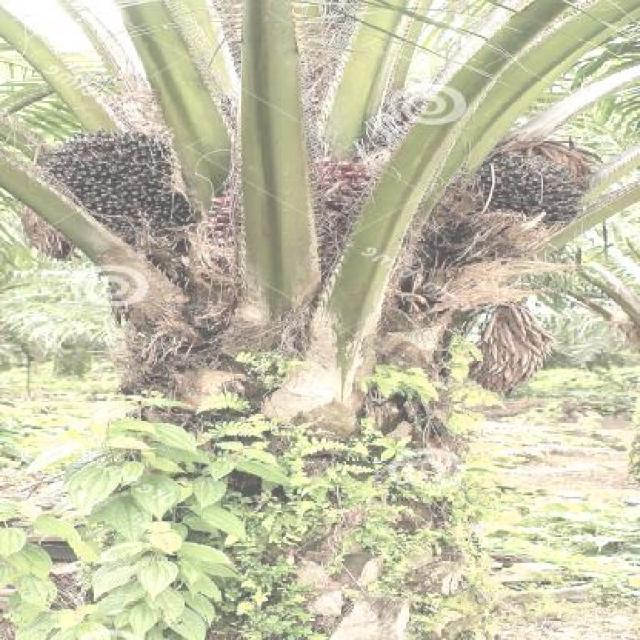palm-oil: (208, 150, 378, 294), (30, 121, 194, 249), (464, 132, 593, 248)
